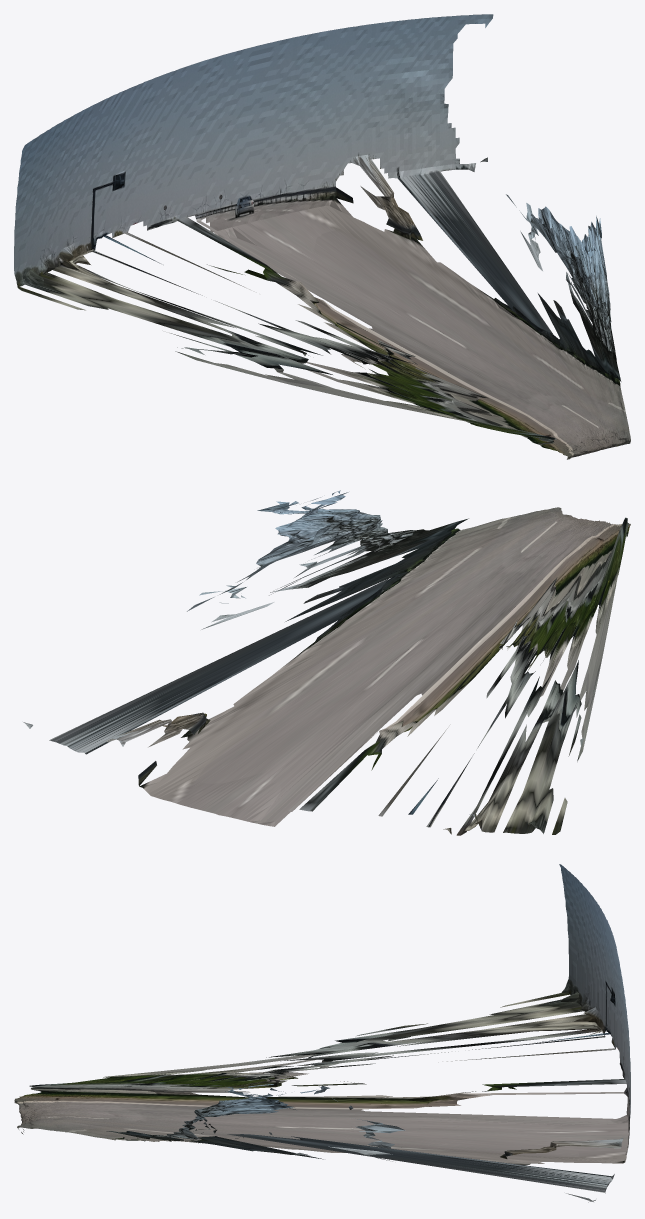
The picture shows the model from 3 angles, top to bottom: view 1: azimuth 30°, elevation 25°; view 2: azimuth 150°, elevation 25°; view 3: azimuth 270°, elevation 25°; orthographic projection. The views are drawn at different scales.
Visible parts, largest first — view 1: defaultobject; view 2: defaultobject; view 3: defaultobject.
Part boxes in pixels (bbox=[...]): defaultobject: bbox=[14, 14, 630, 459]; defaultobject: bbox=[23, 490, 630, 835]; defaultobject: bbox=[14, 864, 630, 1202].
Bounding box in the file's own units: 36.35 × 13.18 × 44.52.
1 material, 1 textured.
